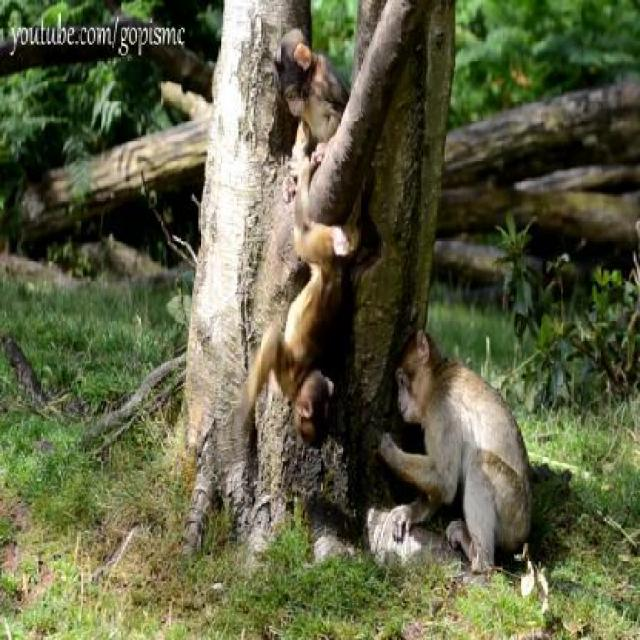Monkey: (378, 307, 545, 598), (267, 174, 361, 478), (265, 10, 346, 207)
